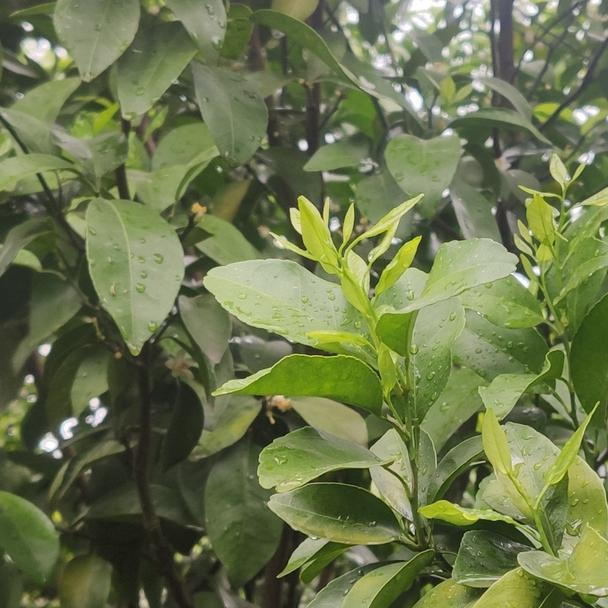shoot: (433, 418, 590, 559), (289, 177, 419, 336), (528, 153, 593, 266)
